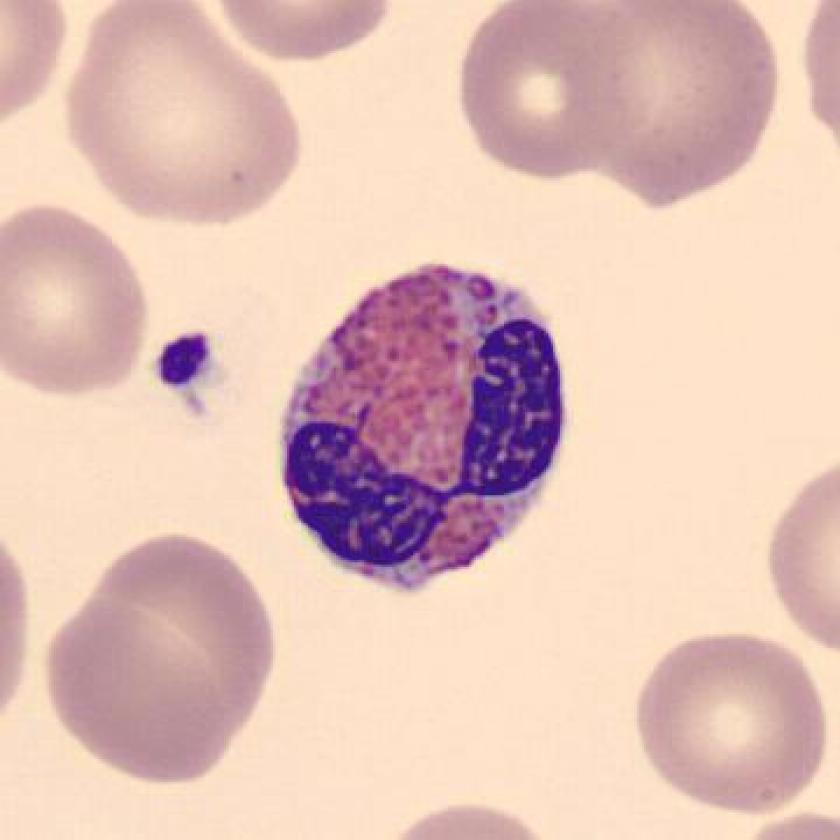eosinophil: (269, 251, 580, 614)
